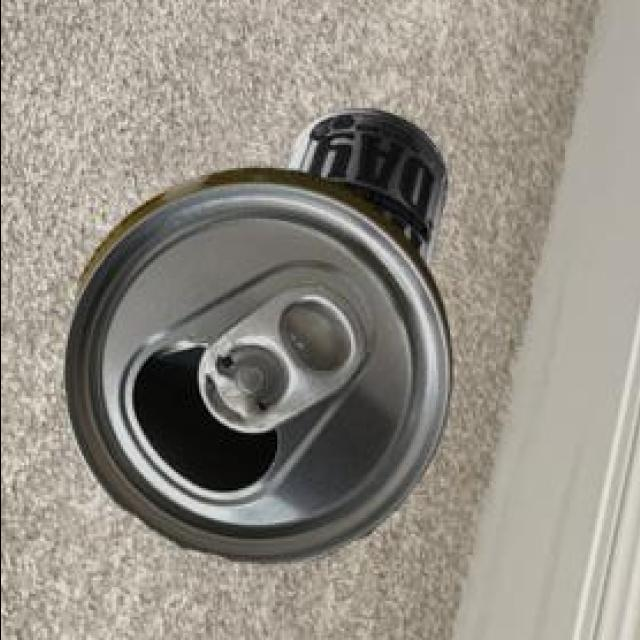logam: (66, 165, 455, 561), (287, 105, 450, 265)
